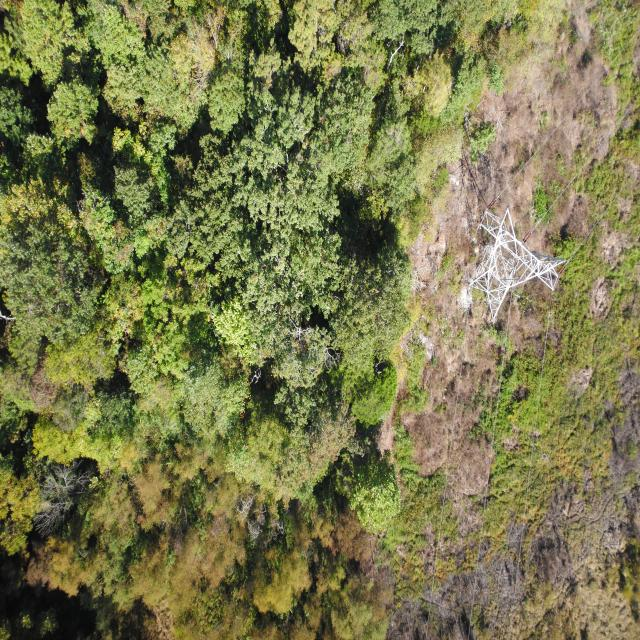Area of Interest: (7, 0, 528, 544)
